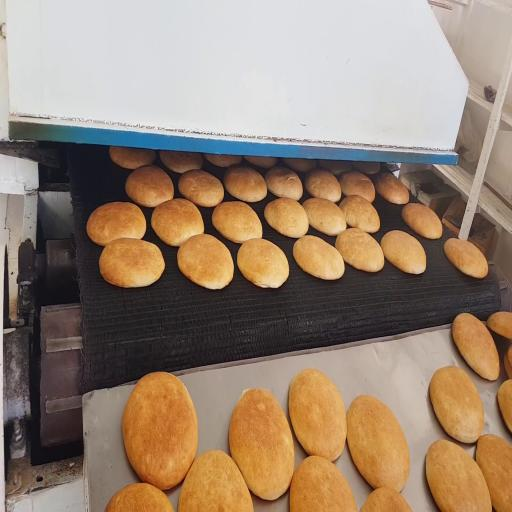bread: (122, 373, 198, 489), (229, 389, 294, 500), (347, 395, 410, 492), (289, 369, 346, 461), (426, 440, 491, 511), (178, 450, 253, 511), (430, 366, 484, 443), (290, 456, 357, 511), (99, 238, 165, 287), (452, 313, 499, 380), (178, 234, 233, 289), (476, 434, 511, 511), (87, 202, 146, 246), (237, 239, 289, 288), (151, 199, 203, 246), (293, 235, 344, 280), (336, 229, 384, 272), (212, 202, 262, 243), (126, 165, 174, 207), (381, 230, 426, 274), (105, 484, 173, 511), (444, 238, 488, 278), (264, 198, 308, 237), (178, 170, 223, 207), (303, 198, 346, 236), (339, 195, 380, 233), (224, 167, 267, 202), (402, 203, 442, 239), (360, 487, 411, 511), (305, 168, 341, 202), (265, 167, 302, 200), (338, 171, 375, 202), (376, 173, 409, 204), (110, 147, 155, 169), (159, 150, 202, 173), (498, 379, 511, 431), (487, 312, 511, 338), (318, 160, 352, 175), (205, 154, 242, 167), (283, 158, 316, 172), (244, 156, 277, 169), (352, 162, 379, 174), (504, 345, 511, 379)
